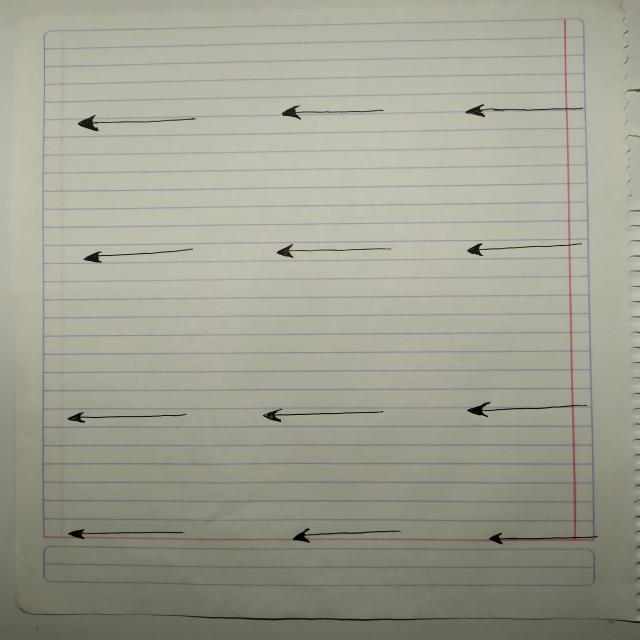arrow_line_left: (452, 397, 606, 425), (456, 98, 596, 128), (68, 108, 206, 138), (74, 238, 204, 268), (268, 99, 402, 128), (280, 522, 414, 550), (261, 238, 405, 264), (250, 404, 398, 428), (55, 406, 199, 430), (454, 237, 594, 260), (58, 524, 202, 544), (480, 528, 608, 548)
